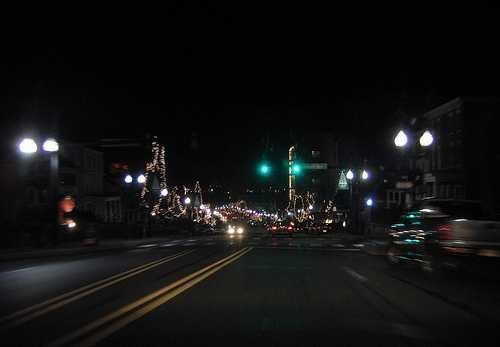green: (290, 144, 305, 180), (256, 148, 271, 178)
